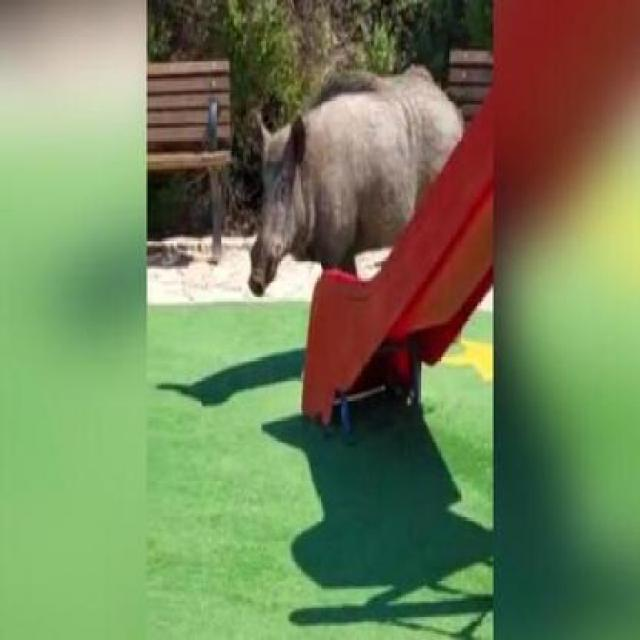wildboar: (242, 57, 476, 326)
